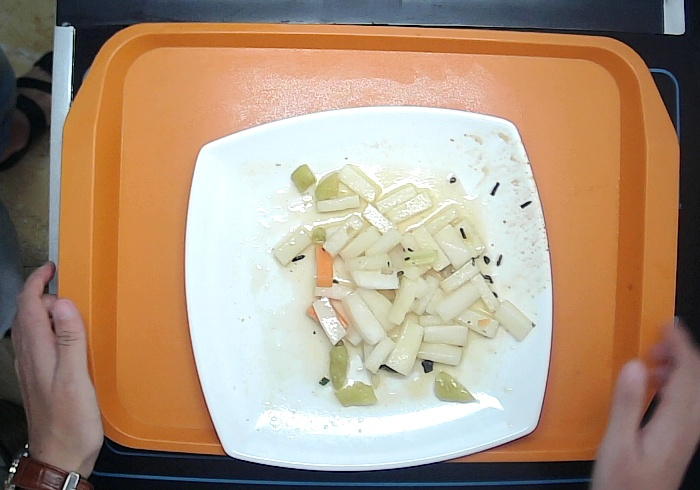ZNLD-Bai_Fang_Pan: (162, 85, 565, 488)
